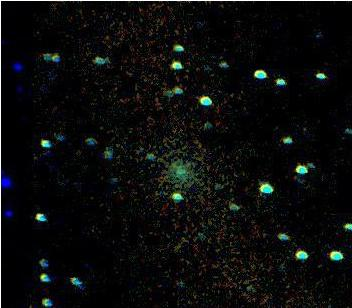star: (156, 143, 186, 173)
